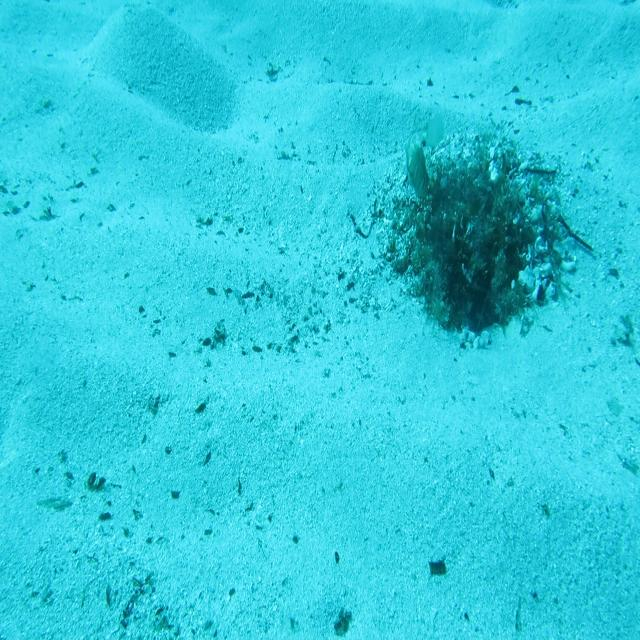NIP_IN: (402, 126, 431, 207)
core_nest: (455, 172, 515, 220)
nest: (368, 118, 583, 360)
